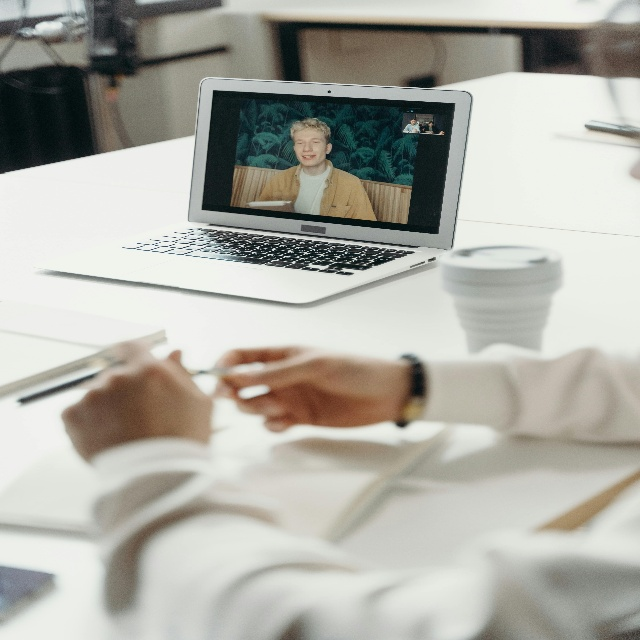Sin_guantes: (208, 347, 395, 429), (59, 361, 217, 443)
